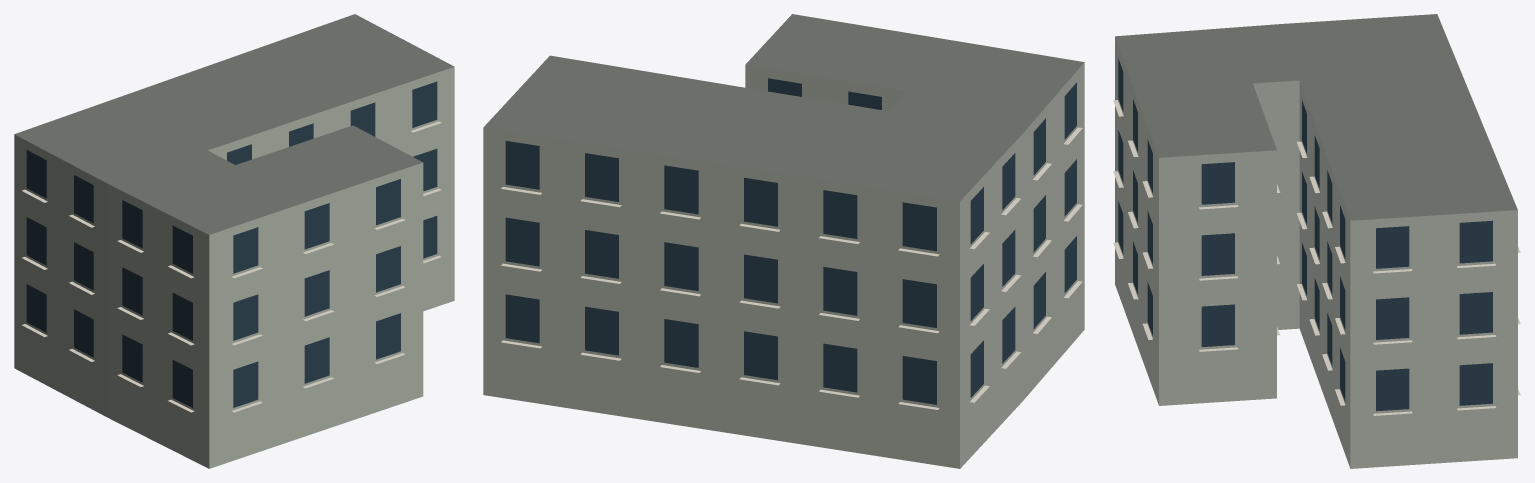
3 views of the same model, side by side, from view 1: azimuth 30°, elevation 25°; view 2: azimuth 150°, elevation 25°; view 3: azimuth 270°, elevation 25° (orthographic). The views are drawn at different scales.
Parts seen in each view (by area): view 1: Footprint 0, Inferred window bays, Window sills; view 2: Footprint 0, Inferred window bays, Window sills; view 3: Footprint 0, Inferred window bays, Window sills.
Part boxes in pixels (<box>): Footprint 0: <box>14,14,454,468</box>; Inferred window bays: <box>26,81,437,407</box>; Window sills: <box>22,121,441,412</box>; Footprint 0: <box>483,14,1084,468</box>; Inferred window bays: <box>505,78,1076,404</box>; Window sills: <box>501,127,1082,409</box>; Footprint 0: <box>1115,14,1517,468</box>; Inferred window bays: <box>1118,58,1492,411</box>; Window sills: <box>1113,100,1520,415</box>.
Bounding box in the file's own units: 18.25 × 10.09 × 15.02.
